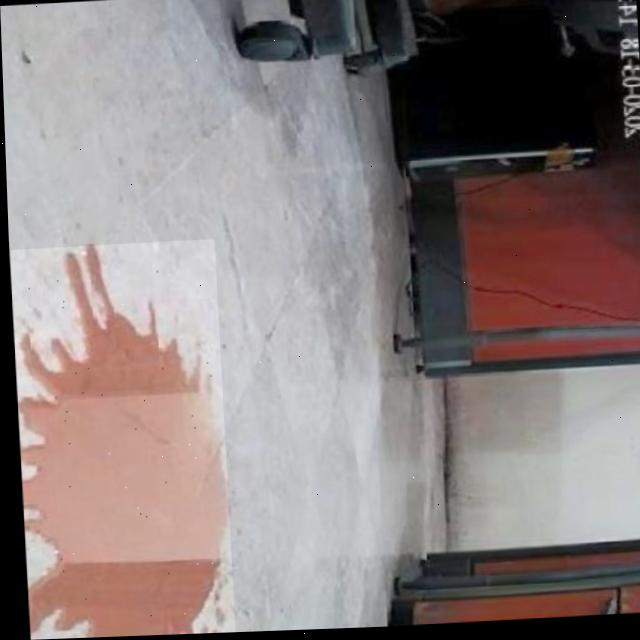spillage: (13, 246, 223, 640)
